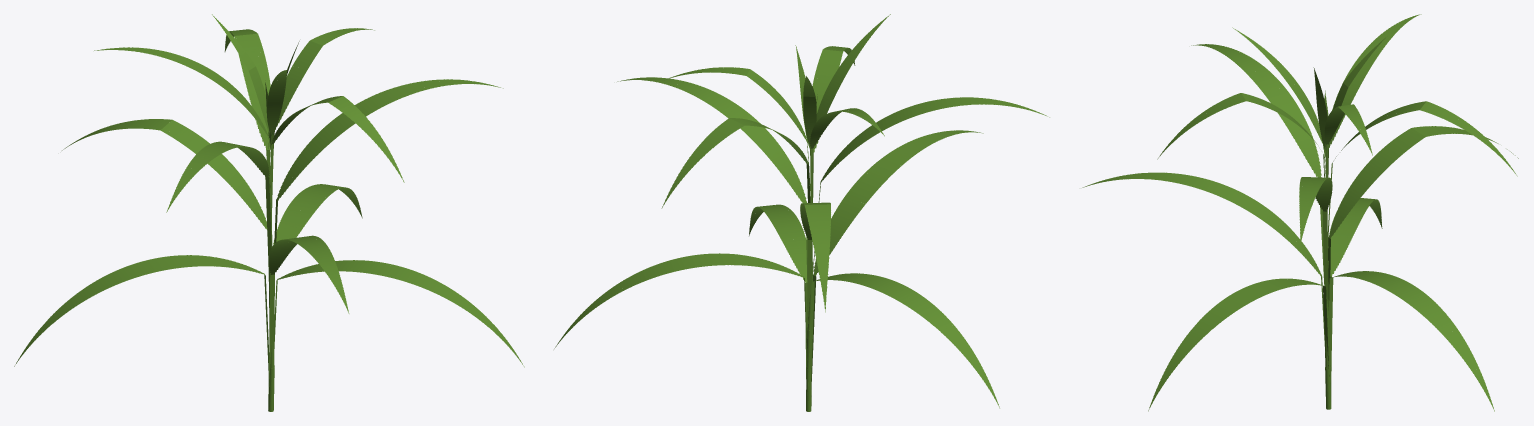
Rendered from maize_001_day_090.dae.
3 renders of one model, left to right at view 1: azimuth 30°, elevation 25°; view 2: azimuth 150°, elevation 25°; view 3: azimuth 270°, elevation 25°, orthographic. The views are drawn at different scales.
Parts seen in each view (by area): view 1: node; view 2: node; view 3: node.
Boxes of the visible parts, <box> form: node: <box>14,14,524,411</box>; node: <box>554,14,1049,411</box>; node: <box>1082,14,1518,411</box>.
Size of the model in its own units: 1.67 by 1.38 by 1.51.
1 material, 1 textured.
